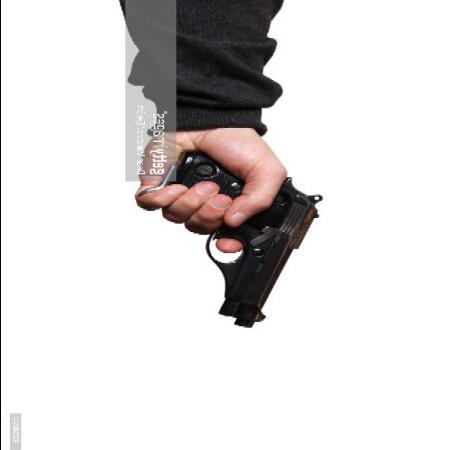Pistol: (173, 148, 325, 335)
